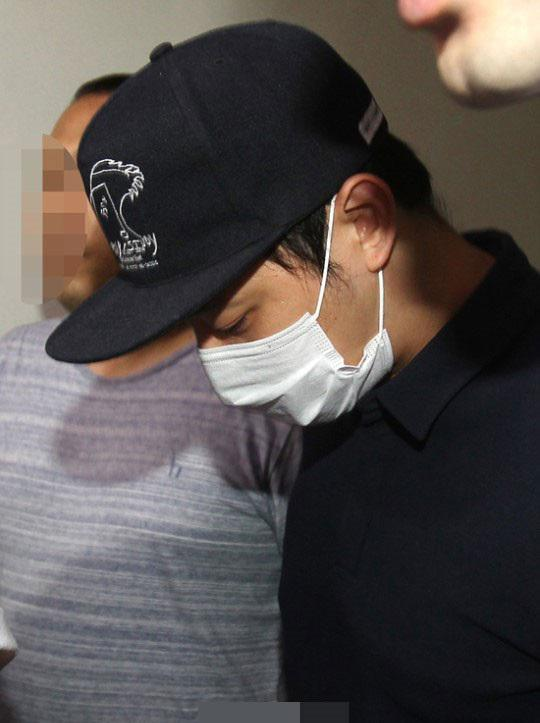OK: (190, 213, 406, 429)
